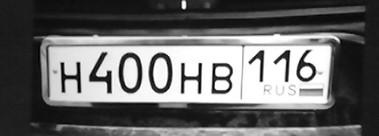license-plateSW: (43, 44, 335, 102)
